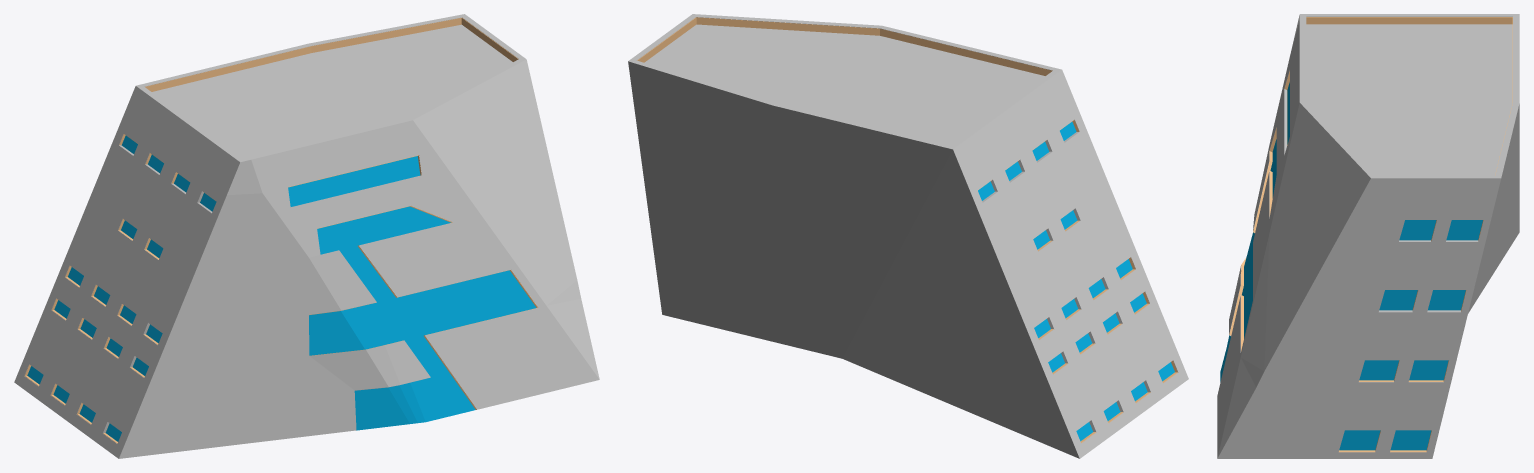
File: TheForum.fbx
3 views of the same model, side by side, from view 1: azimuth 30°, elevation 25°; view 2: azimuth 150°, elevation 25°; view 3: azimuth 270°, elevation 25° (orthographic). The views are drawn at different scales.
Visible parts, largest first — view 1: TheForum.001, TheForum; view 2: TheForum.001, TheForum; view 3: TheForum.001, TheForum.
Part boxes in pixels (bbox=[...]): TheForum.001: bbox=[14, 14, 599, 458]; TheForum: bbox=[25, 18, 537, 432]; TheForum.001: bbox=[628, 14, 1188, 458]; TheForum: bbox=[638, 17, 1073, 189]; TheForum.001: bbox=[1217, 14, 1519, 458]; TheForum: bbox=[1306, 17, 1512, 450].
Size of the model in its own units: 646 by 375 by 364.
